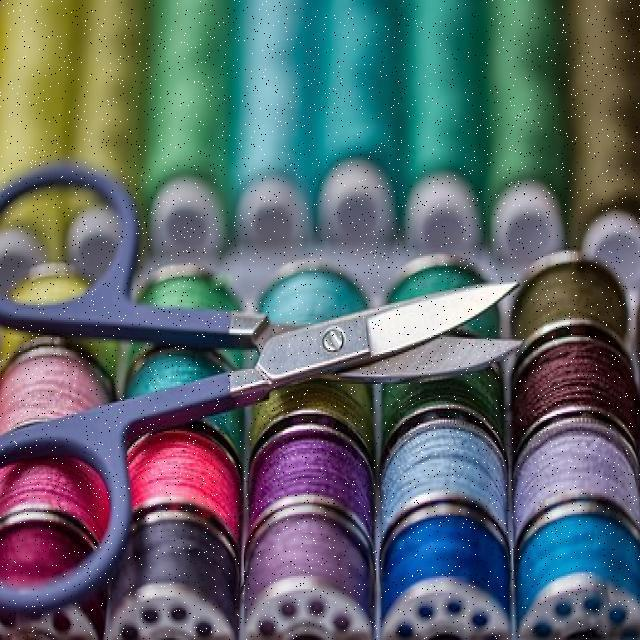scissors: (0, 160, 533, 622)
